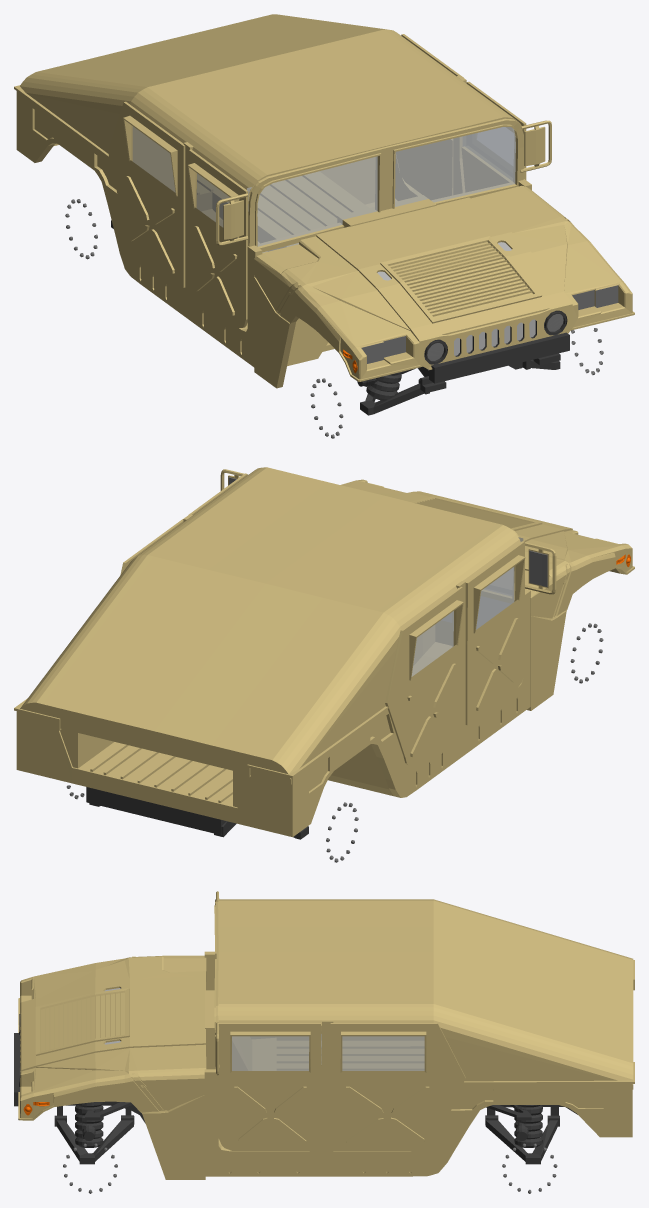
File: hammer_body.glb
The picture shows the model from 3 angles, top to bottom: view 1: azimuth 30°, elevation 25°; view 2: azimuth 150°, elevation 25°; view 3: azimuth 270°, elevation 25°; orthographic projection. The views are drawn at different scales.
Parts seen in each view (by area): view 1: body_tan, glass_2_New, body_dkgrey, glass_1_New, body_grey, glass_New, body_flgrey, bolts_grey, spring_dkgrey; view 2: body_tan, glass_1_New, body_dkgrey, glass_2_New, body_grey, bolts_grey; view 3: body_tan, glass_New, body_dkgrey, spring_dkgrey, bolts_grey.
Boxes of the visible parts, x1,y1,x2,y2 form: body_tan: [14, 14, 634, 388]; glass_2_New: [247, 127, 515, 252]; body_dkgrey: [111, 220, 569, 415]; glass_1_New: [132, 126, 237, 237]; body_grey: [361, 285, 618, 363]; glass_New: [463, 127, 513, 180]; body_flgrey: [377, 242, 535, 355]; bolts_grey: [65, 199, 603, 438]; spring_dkgrey: [366, 371, 402, 400]; body_tan: [14, 467, 634, 837]; glass_1_New: [411, 567, 514, 676]; body_dkgrey: [86, 787, 308, 839]; glass_2_New: [442, 537, 523, 628]; body_grey: [228, 477, 547, 586]; bolts_grey: [66, 623, 603, 862]; body_tan: [18, 891, 634, 1179]; glass_New: [232, 1034, 424, 1070]; body_dkgrey: [14, 1014, 577, 1164]; spring_dkgrey: [75, 1102, 542, 1147]; bolts_grey: [63, 1143, 557, 1193].
Size of the model in its own units: 184 by 108 by 330.
